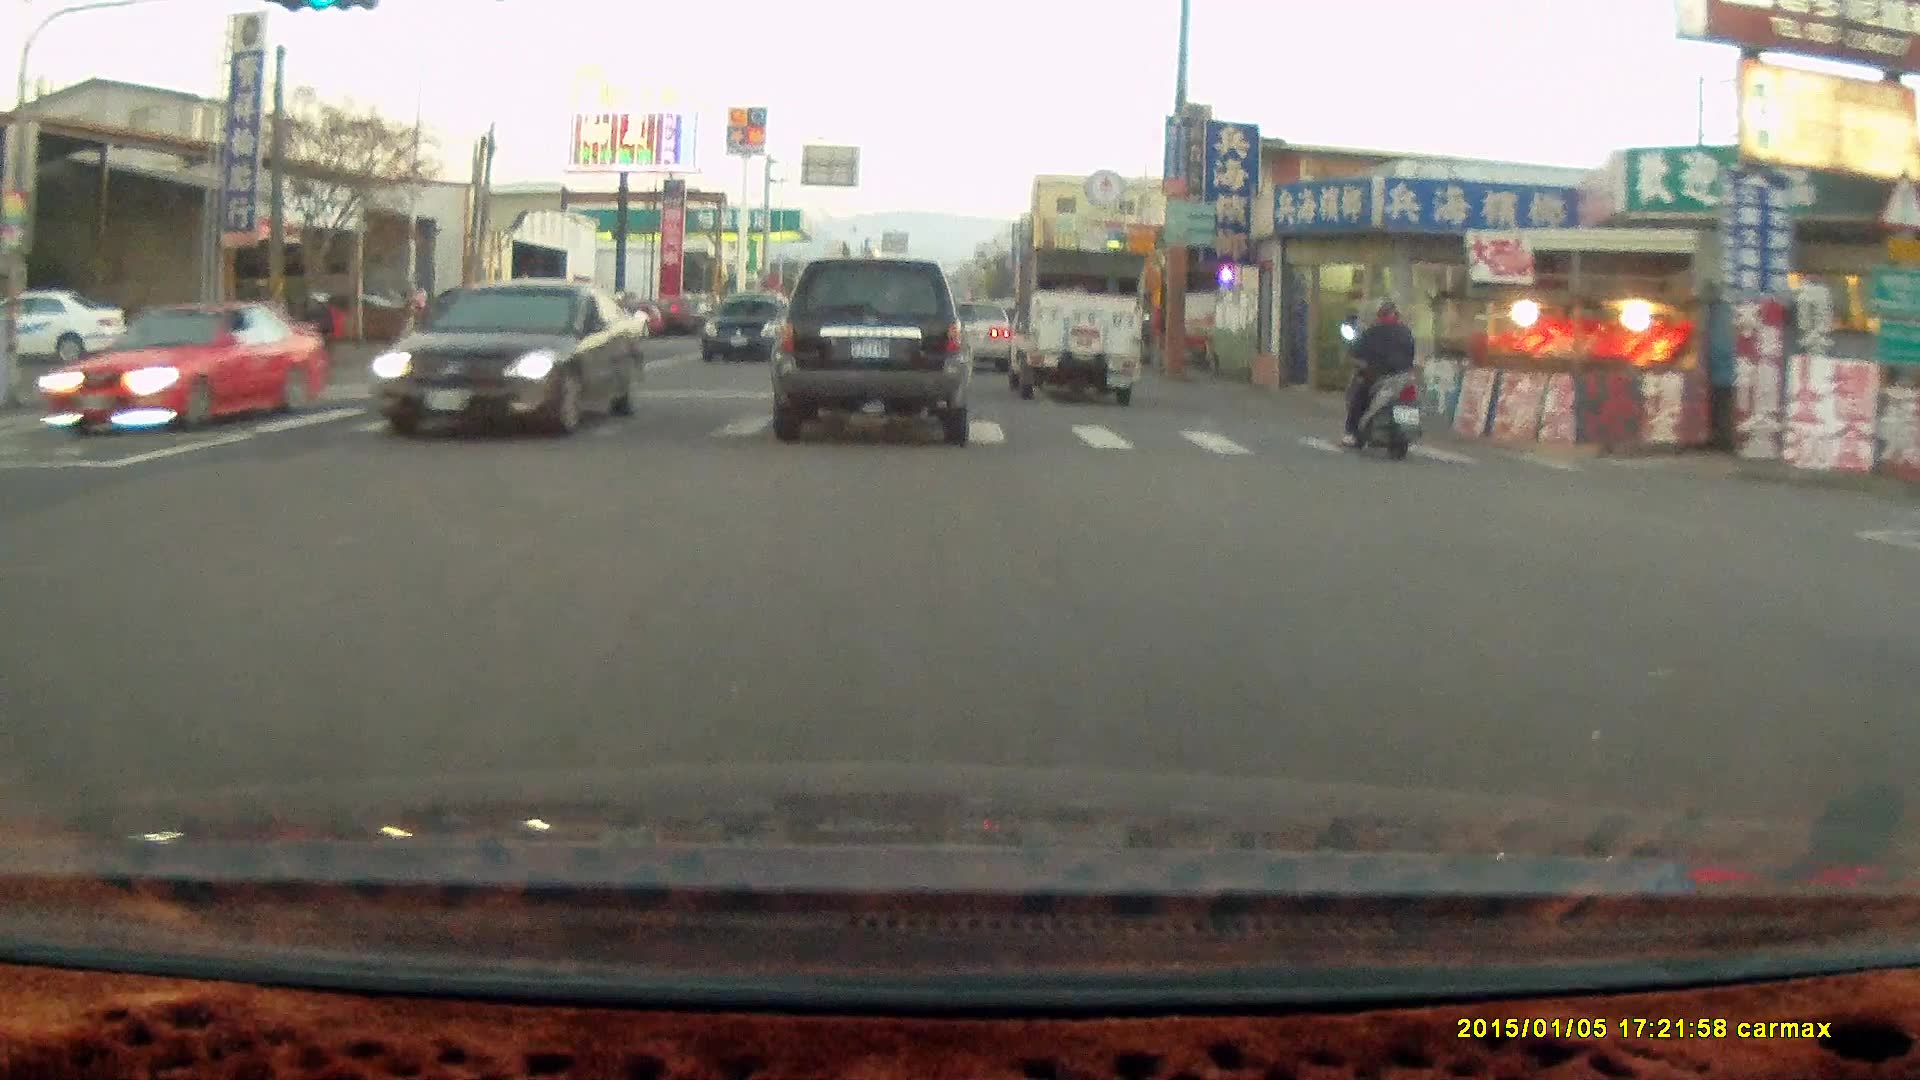rider: (1334, 291, 1424, 457), (280, 286, 340, 386)
vehicle: (376, 277, 645, 438), (767, 259, 975, 449), (47, 300, 324, 431), (1005, 242, 1146, 406), (1, 292, 135, 371), (701, 291, 795, 363), (935, 295, 1013, 370), (952, 286, 1024, 364)
